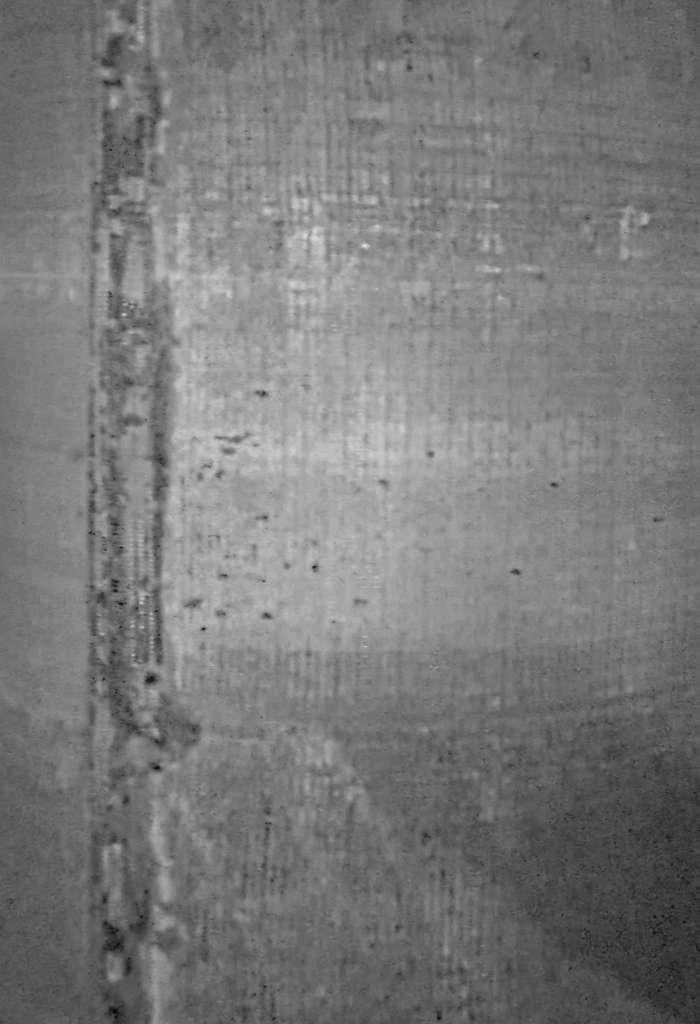splice: (76, 3, 191, 1024)
